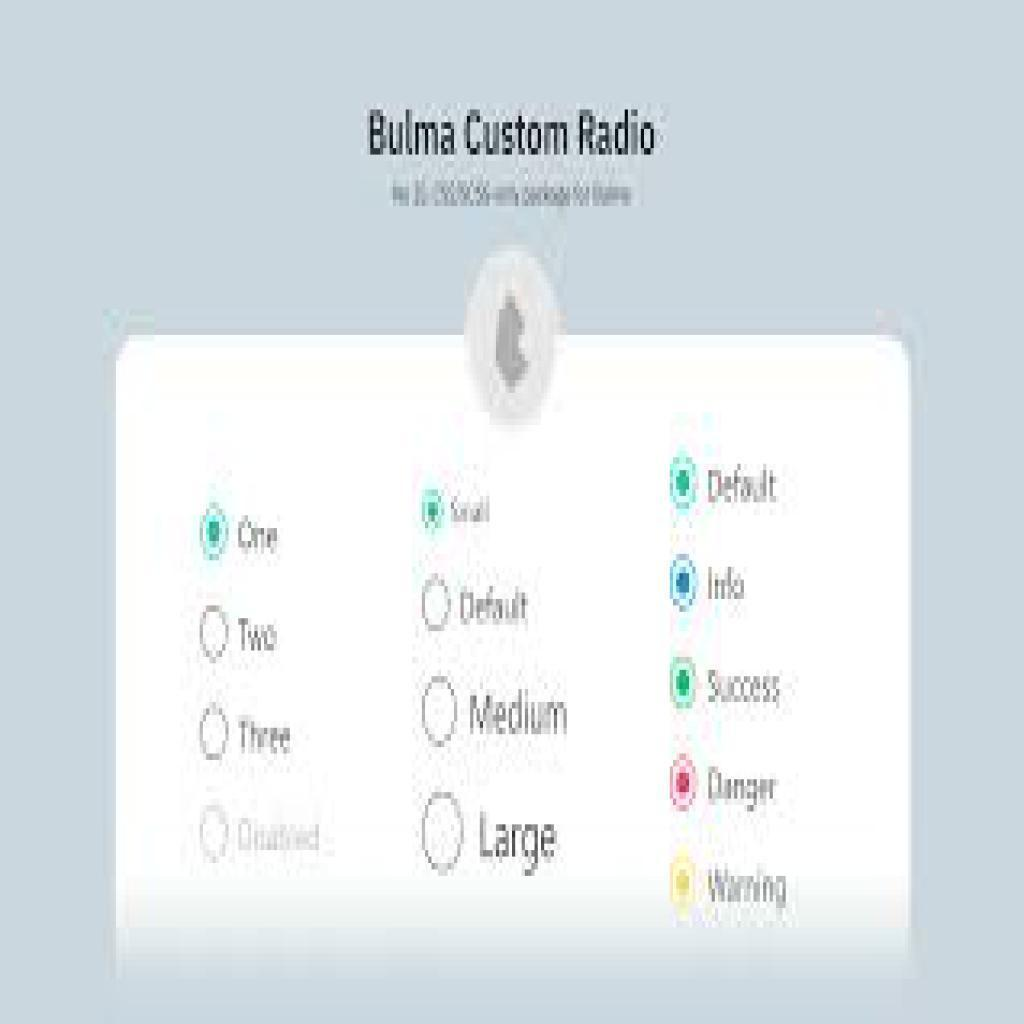radio: (418, 780, 466, 877), (419, 661, 462, 752), (664, 439, 700, 520), (667, 838, 701, 922), (190, 494, 227, 569), (664, 753, 705, 819), (419, 568, 457, 638), (664, 549, 701, 617), (200, 797, 233, 873), (199, 597, 232, 670), (665, 642, 699, 709), (198, 693, 227, 765), (423, 488, 444, 525)
